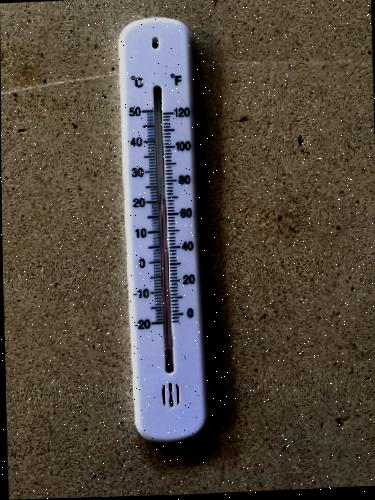thermo: (119, 18, 211, 436)
